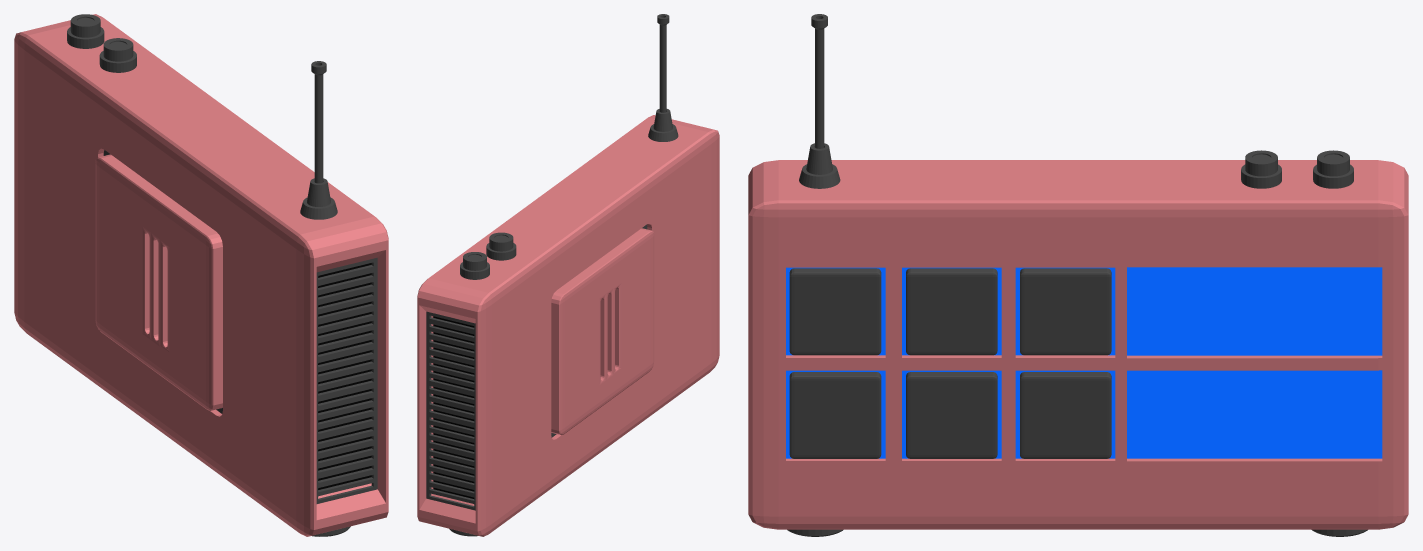
Rendered from AUDIO3.gltf.
The picture shows the model from 3 angles, left to right: view 1: azimuth 30°, elevation 25°; view 2: azimuth 150°, elevation 25°; view 3: azimuth 270°, elevation 25°; orthographic projection. The views are drawn at different scales.
Parts seen in each view (by area): view 1: BASE, Cube065, Cube063, Cube063_1, ANTENNA, KNOB1, KNOB2; view 2: BASE, Cube065, Cube032, Cube032_1, ANTENNA, KNOB2, KNOB1; view 3: BASE, EMISSION, KICK, PERC, SNARE, SYNTH, BASS, EFFECTS, ANTENNA, KNOB2, KNOB1.
Part boxes in pixels (x1,y1,x2,y2): BASE: (14, 14, 388, 536); Cube065: (95, 154, 222, 410); Cube063: (316, 257, 377, 503); Cube063_1: (318, 263, 371, 489); ANTENNA: (300, 61, 337, 219); KNOB1: (67, 14, 104, 48); KNOB2: (99, 38, 136, 72); BASE: (417, 115, 719, 536); Cube065: (551, 228, 654, 435); Cube032: (426, 311, 475, 510); Cube032_1: (433, 316, 474, 498); ANTENNA: (648, 14, 678, 141); KNOB2: (486, 232, 516, 260); KNOB1: (460, 252, 489, 279); BASE: (748, 160, 1408, 529); EMISSION: (786, 267, 1382, 458); KICK: (789, 268, 881, 355); PERC: (906, 268, 997, 355); SNARE: (1020, 268, 1111, 355); SYNTH: (789, 372, 881, 458); BASS: (906, 372, 997, 458); EFFECTS: (1020, 372, 1111, 458); ANTENNA: (799, 14, 840, 188); KNOB2: (1241, 150, 1281, 188); KNOB1: (1313, 150, 1353, 188).
Size of the model in its own units: 1.13 by 5.3 by 6.27.
